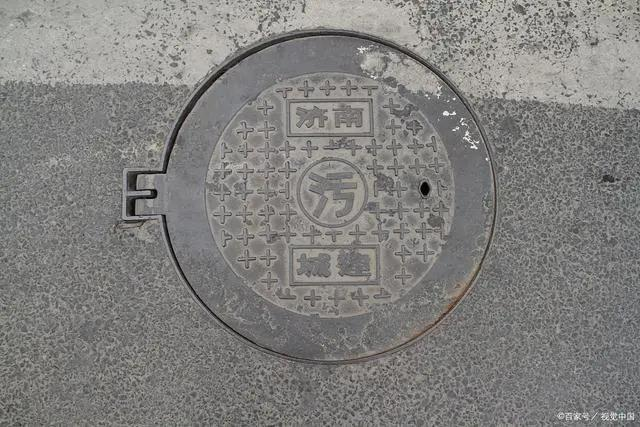wellcover: (109, 0, 528, 383)
